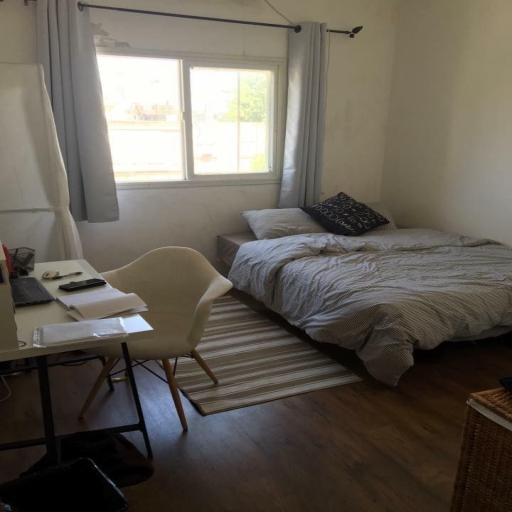bus: (102, 247, 232, 430)
glass_wall: (10, 278, 54, 307)
person: (217, 193, 511, 386)
stroller: (0, 260, 152, 463)
